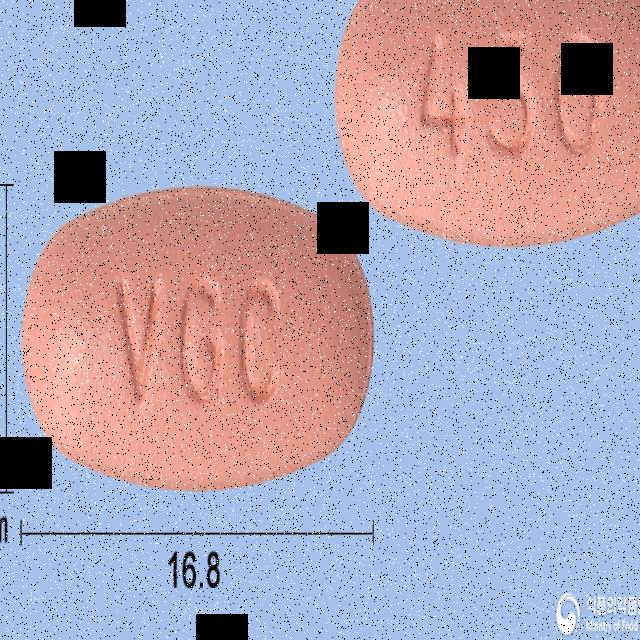Valcyte Tab: (21, 182, 374, 493), (334, 0, 640, 246)
